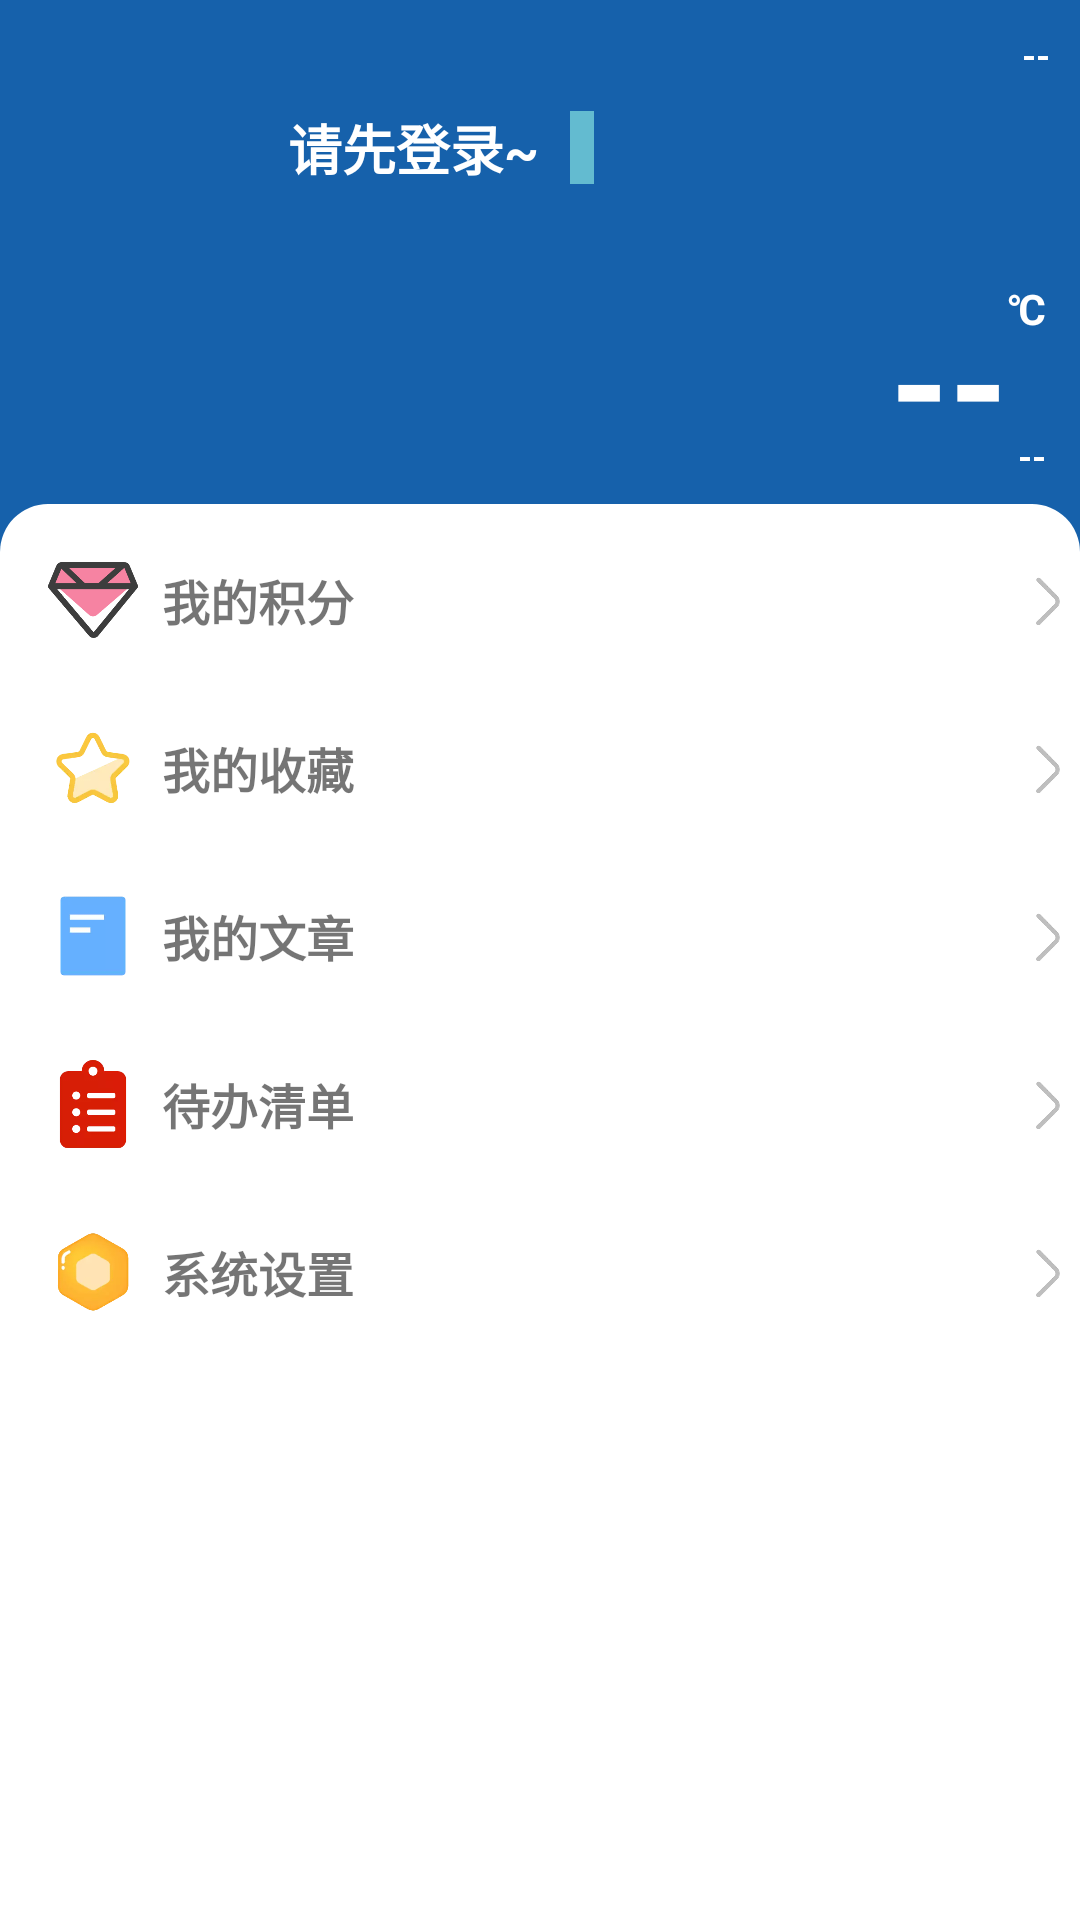

Screen size 1080 × 1920. Icon name, then its box in pixels as Rect(x1, y1, x2, y2):
article: Rect(60, 896, 126, 976)
collect: Rect(56, 733, 130, 803)
list: Rect(60, 1060, 126, 1148)
right: Rect(1036, 578, 1060, 625), Rect(1036, 746, 1060, 793), Rect(1036, 914, 1060, 961), Rect(1036, 1082, 1060, 1129), Rect(1036, 1250, 1060, 1297)
score: Rect(48, 562, 138, 638)
